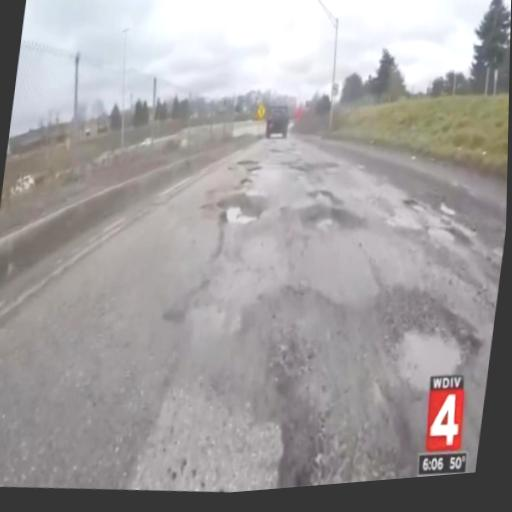pothole: (379, 303, 468, 394), (302, 204, 340, 234), (220, 196, 257, 221)
